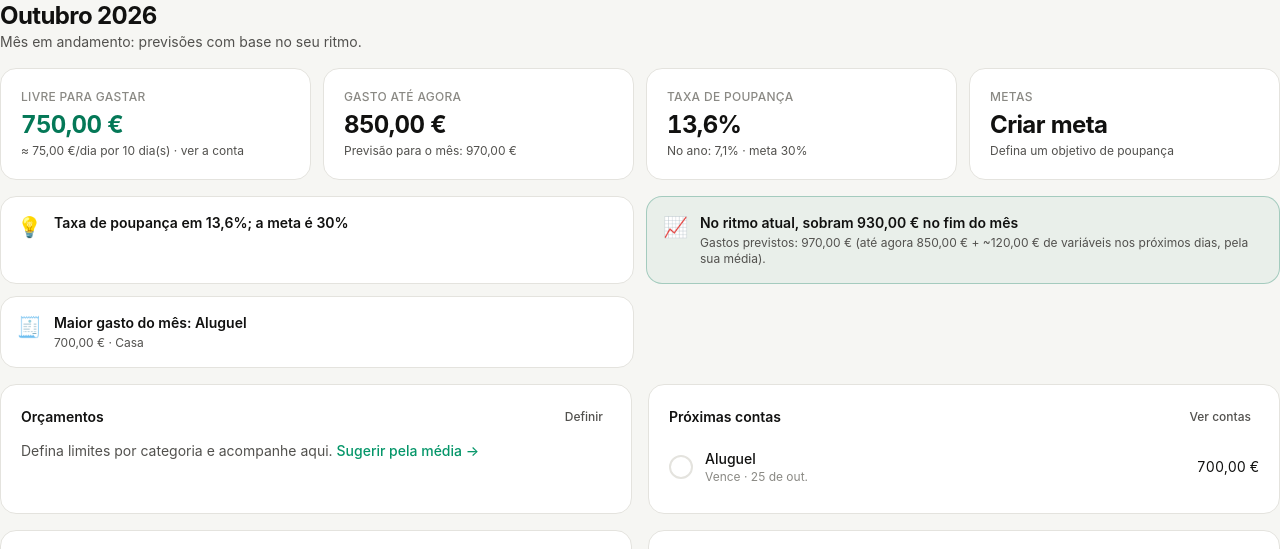
Test: Início › "Próximas contas" lists bills due within 7 days and can mark them paid
Expected: the list item "Aluguel" reads "Aluguel Vence · 25 de out. 700,00 €", [1197, 458, 1259, 475]
Wait for the recorded entry (700 €), not just the stored bill: only then does the check mark it paid.
Click the checkbox named "Aluguel pago" at (681, 467), box [669, 455, 693, 479]
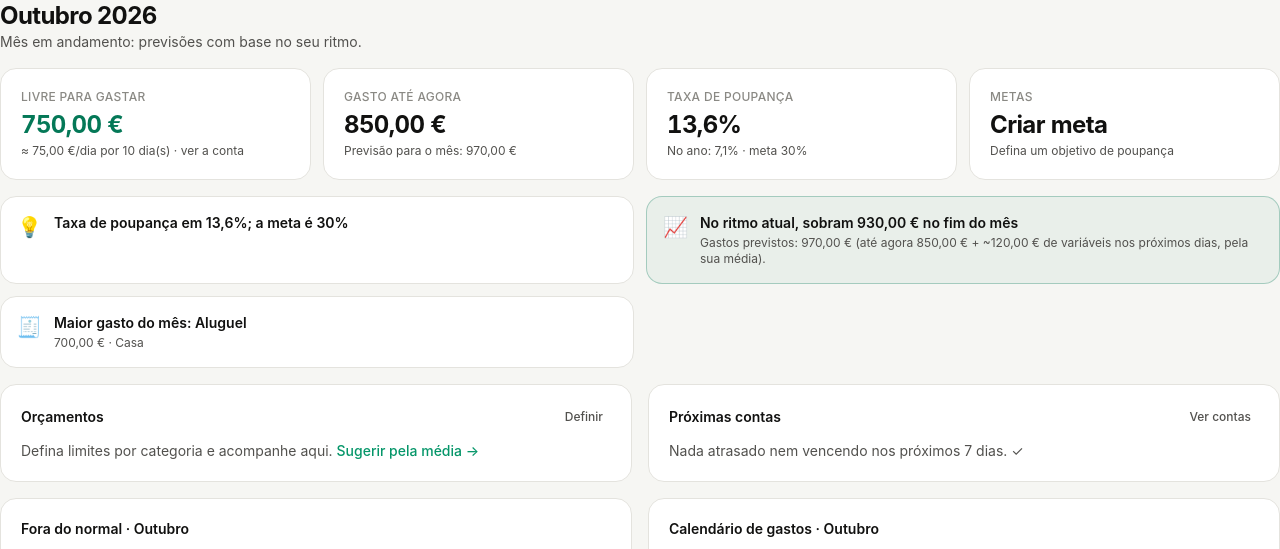
Now the text "Nada atrasado nem vencendo nos próximos 7 dias. ✓" is shown, box [669, 442, 1024, 459]
